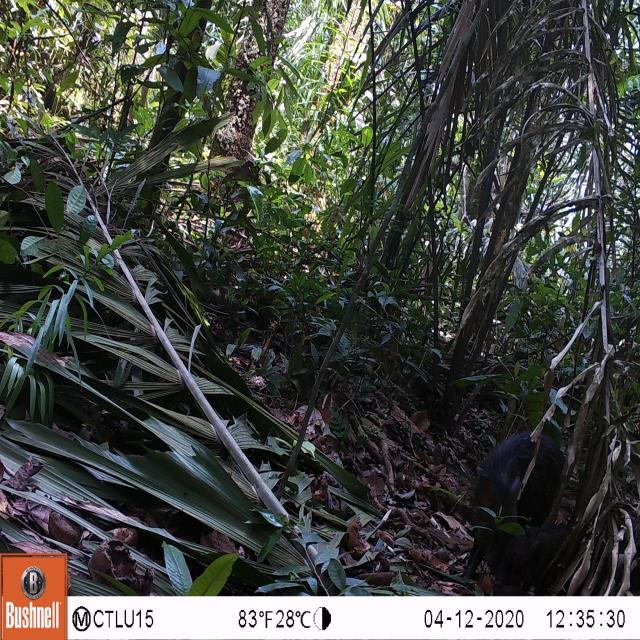White-lipped Peccary: (465, 431, 569, 581)
